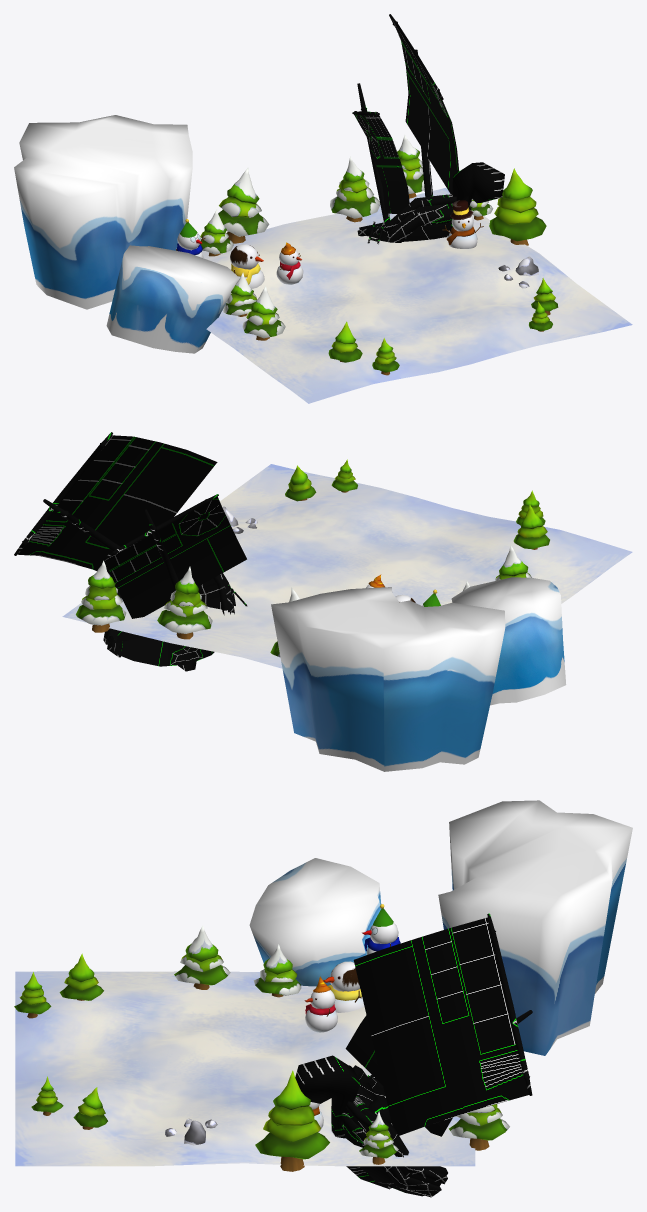
File: IceCamera5.FBX
3 renders of one model, top to bottom at view 1: azimuth 30°, elevation 25°; view 2: azimuth 150°, elevation 25°; view 3: azimuth 270°, elevation 25°, orthographic. The views are drawn at different scales.
Visible parts, largest first — view 1: tereno1, Iceberg009, Iceberg011, ferry005, ferry007, ferry006, Object009, Object031, Object030, Object026, Ice_man005, Ice_man006 (+7 smaller); view 2: tereno1, Iceberg009, ferry005, ferry006, Iceberg011, ferry007, Object030, Object029, Object007, Object011, Object026, Object010; view 3: tereno1, Iceberg009, ferry005, Iceberg011, ferry007, Object009, Object026, Object029, Object032, Ice_man006, ferry006, Ice_man004 (+6 smaller).
Boxes of the visible parts, bbox=[...] form: tereno1: bbox=[202, 188, 632, 403]; Iceberg009: bbox=[14, 115, 192, 309]; Iceberg011: bbox=[106, 245, 239, 353]; ferry005: bbox=[389, 14, 459, 196]; ferry007: bbox=[357, 162, 504, 244]; ferry006: bbox=[352, 83, 409, 222]; Object009: bbox=[489, 168, 546, 245]; Object031: bbox=[218, 167, 269, 243]; Object030: bbox=[330, 156, 380, 222]; Object026: bbox=[242, 286, 285, 340]; Ice_man005: bbox=[443, 200, 483, 248]; Ice_man006: bbox=[230, 244, 264, 288]; tereno1: bbox=[62, 464, 632, 668]; Iceberg009: bbox=[271, 587, 505, 771]; ferry005: bbox=[14, 432, 217, 576]; ferry006: bbox=[102, 494, 246, 618]; Iceberg011: bbox=[451, 577, 566, 705]; ferry007: bbox=[103, 573, 247, 671]; Object030: bbox=[157, 566, 212, 639]; Object029: bbox=[76, 560, 126, 632]; Object007: bbox=[513, 504, 549, 549]; Object011: bbox=[285, 465, 316, 501]; Object026: bbox=[495, 545, 531, 580]; Object010: bbox=[331, 459, 357, 492]; tereno1: bbox=[15, 971, 475, 1166]; Iceberg009: bbox=[438, 800, 632, 1055]; ferry005: bbox=[353, 913, 532, 1136]; Iceberg011: bbox=[249, 858, 381, 986]; ferry007: bbox=[295, 1055, 447, 1197]; Object009: bbox=[255, 1070, 329, 1171]; Object026: bbox=[174, 925, 230, 989]; Object029: bbox=[449, 1104, 509, 1150]; Object032: bbox=[253, 944, 301, 997]; Ice_man006: bbox=[323, 961, 364, 1012]; ferry006: bbox=[345, 1015, 452, 1136]; Ice_man004: bbox=[304, 976, 337, 1032].
Bounding box in the file's own units: 662 × 350 × 673.
